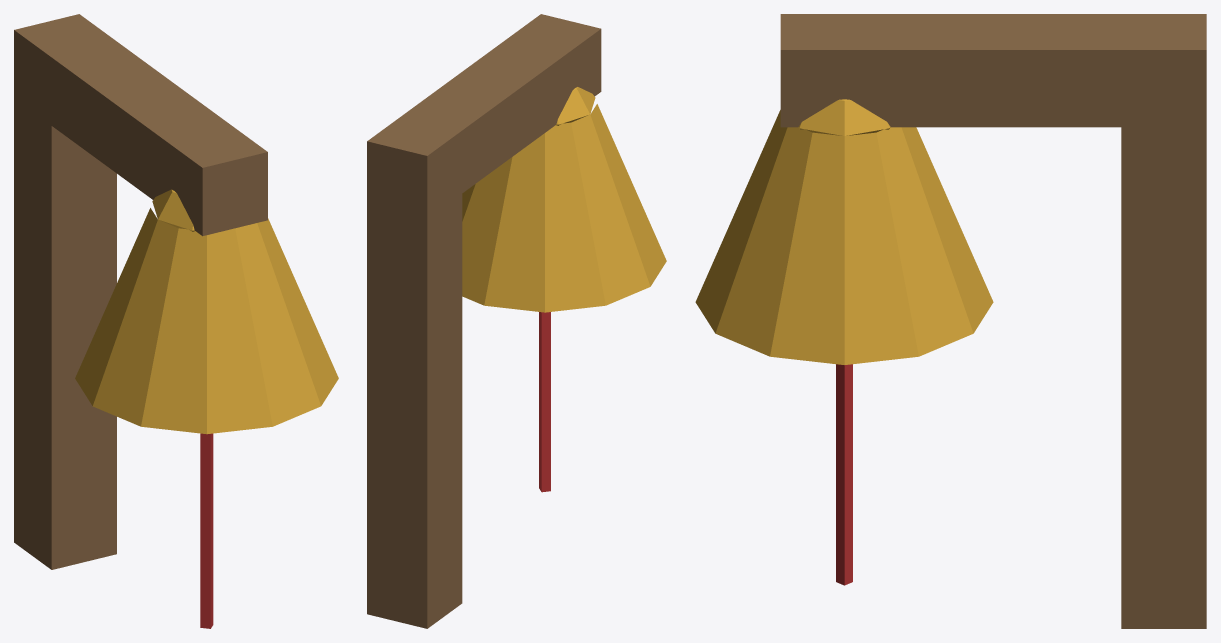
Rendered from feed_bell.glb.
3 renders of one model, left to right at view 1: azimuth 30°, elevation 25°; view 2: azimuth 150°, elevation 25°; view 3: azimuth 270°, elevation 25°, orthographic. The views are drawn at different scales.
Parts seen in each view (by area): view 1: bracket_bell_wood, bell_bell_brass (×2), cord_bell_cord; view 2: bracket_bell_wood, bell_bell_brass (×2), cord_bell_cord; view 3: bracket_bell_wood, bell_bell_brass (×2), cord_bell_cord.
Boxes of the visible parts, box(x1,y1,x2,y2) form: bracket_bell_wood: box(14, 14, 267, 569); bell_bell_brass (×2): box(75, 189, 338, 434); cord_bell_cord: box(200, 433, 213, 628); bracket_bell_wood: box(367, 14, 601, 628); bell_bell_brass (×2): box(462, 87, 666, 312); cord_bell_cord: box(539, 312, 550, 492); bracket_bell_wood: box(780, 14, 1206, 628); bell_bell_brass (×2): box(695, 99, 993, 364); cord_bell_cord: box(836, 364, 852, 585).
Bounding box in the file's own units: 0.28 × 0.6 × 0.48.
